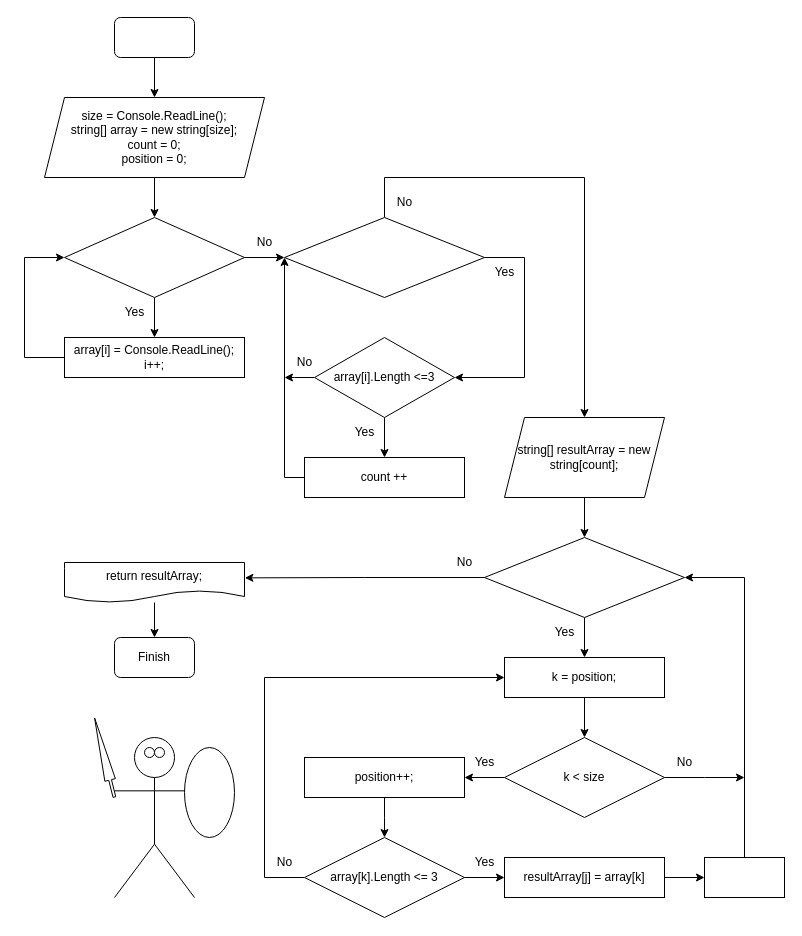
The diagram is 802 pixels wide and 936 high, and some of its shapes have lost their labels. Here are the shapes that lost their labels. From the top down, the centre of each, then its label:
the point at 154,37: Start
the point at 154,257: i < size
the point at 384,257: j < size
the point at 584,577: j < count
the point at 154,817: LVL UP!
the point at 744,877: break;
